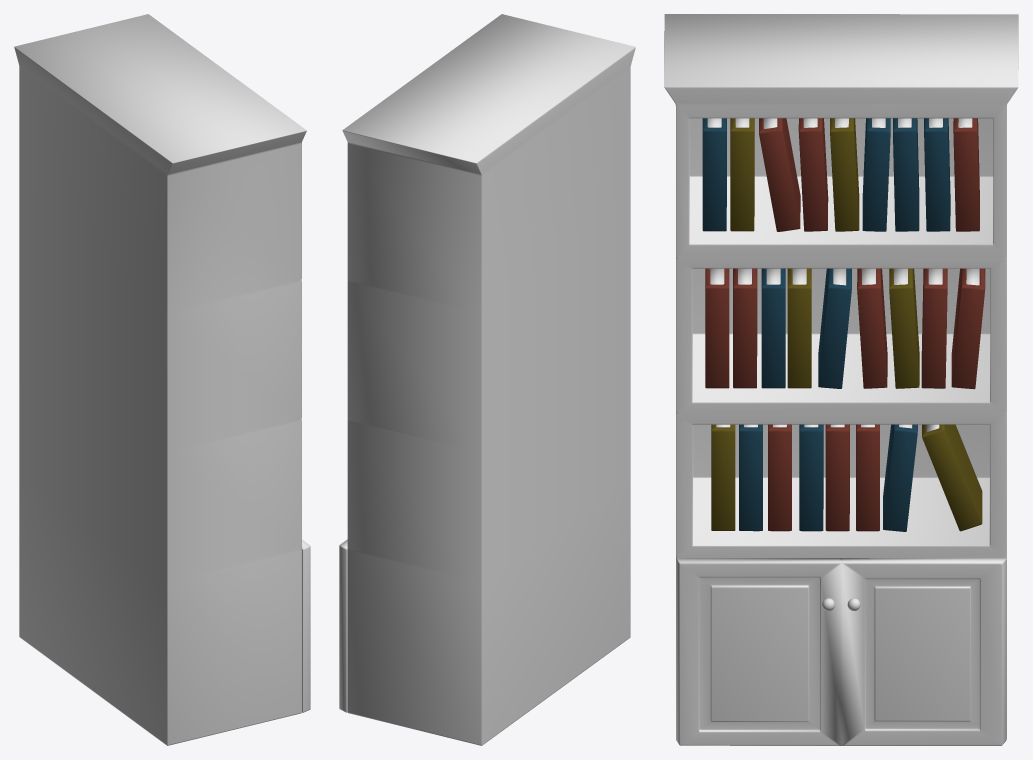
File: mahou_hondana3.fbx
3 renders of one model, left to right at view 1: azimuth 30°, elevation 25°; view 2: azimuth 150°, elevation 25°; view 3: azimuth 270°, elevation 25°, orthographic. The views are drawn at different scales.
Visible parts, largest first — view 1: 立方体.019; view 2: 立方体.019; view 3: 立方体.019.
Part boxes in pixels (x1,y1,x2,y2): 立方体.019: [14, 14, 310, 745]; 立方体.019: [339, 14, 635, 745]; 立方体.019: [664, 14, 1018, 745].
Size of the model in its own units: 30.27 by 109 by 53.8.
